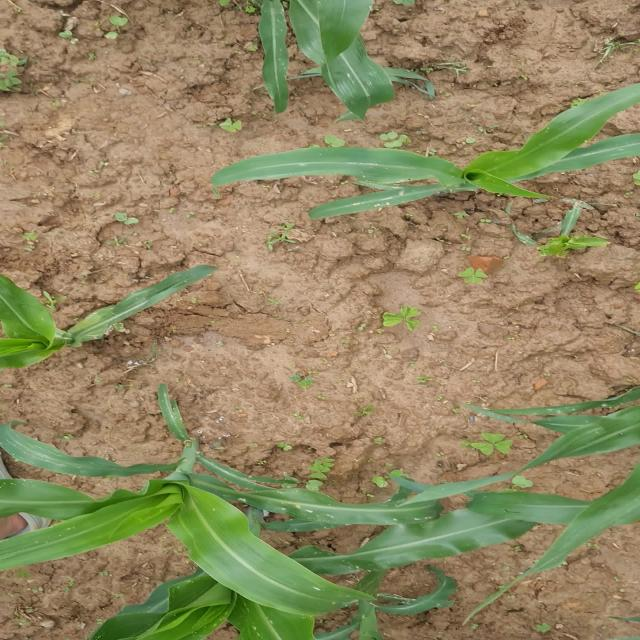maize: (0, 391, 378, 640), (403, 369, 640, 627), (225, 113, 640, 229), (176, 0, 418, 119), (0, 266, 243, 379)
weed: (339, 288, 456, 358), (527, 198, 640, 265), (361, 133, 483, 182), (0, 34, 64, 87), (187, 109, 265, 139), (450, 426, 528, 454), (302, 131, 370, 157)
